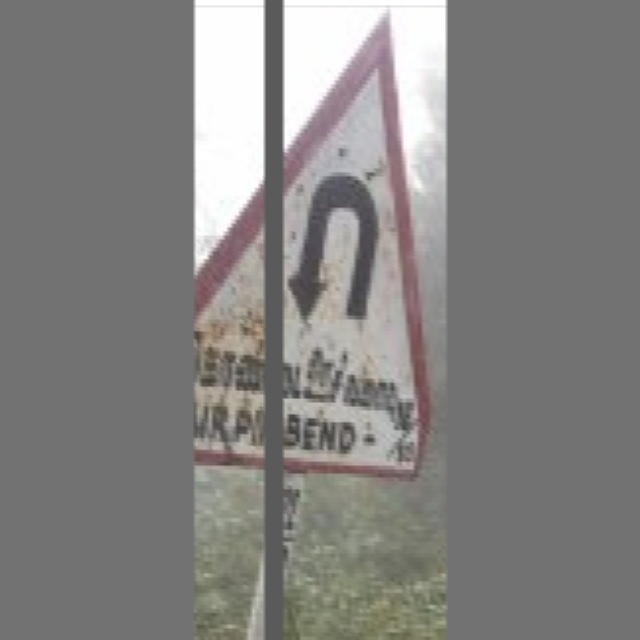Left_Hair_Pin_Bend: (258, 138, 426, 341)
